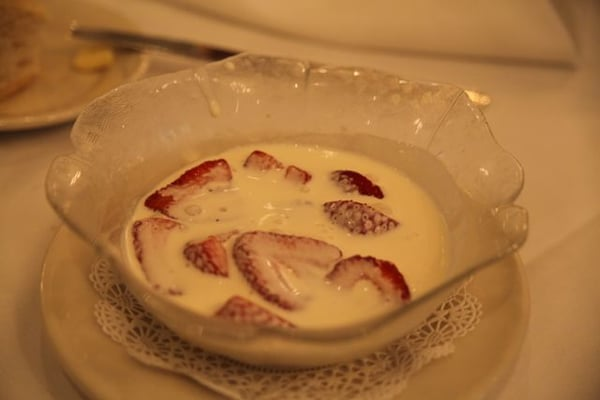curry: (1, 3, 558, 396)
